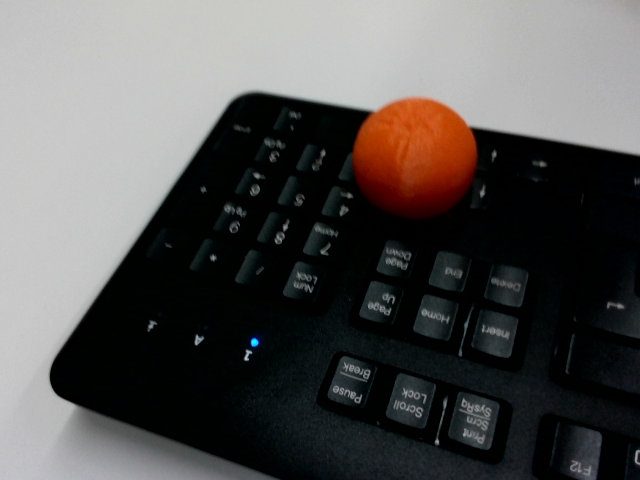orange: (337, 81, 491, 234)
